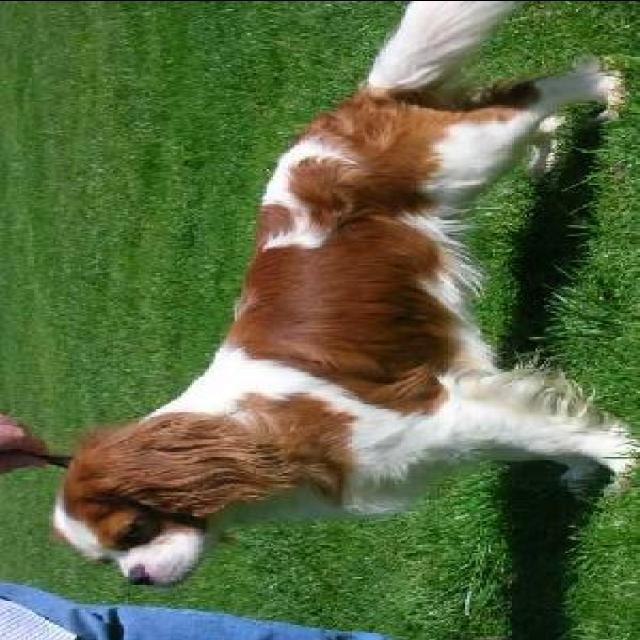blenheim_spaniel: (47, 1, 636, 588)
